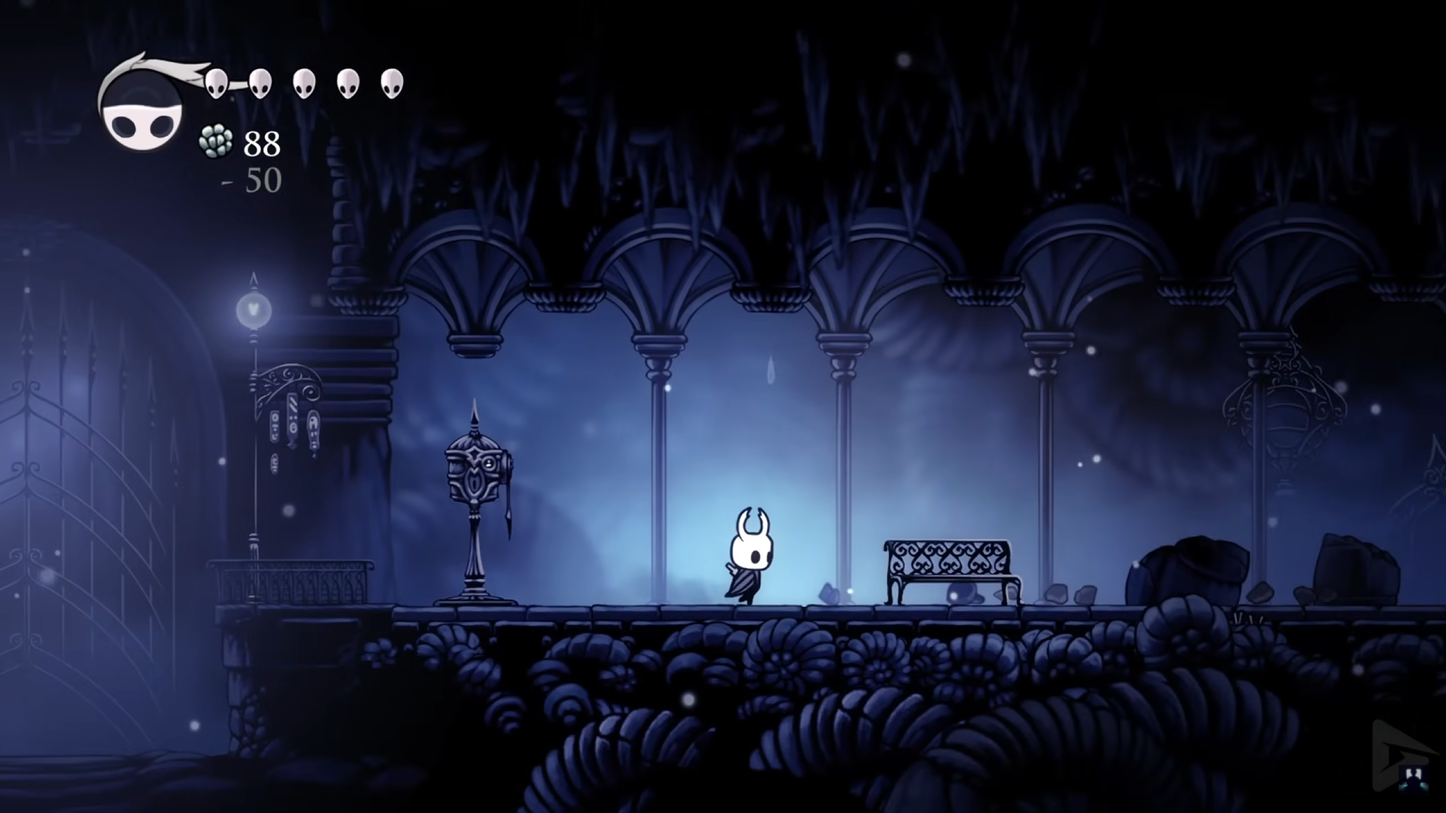HK: (721, 505, 779, 607)
